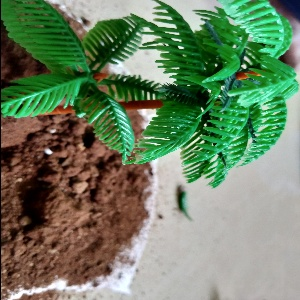plant: (6, 1, 300, 179)
